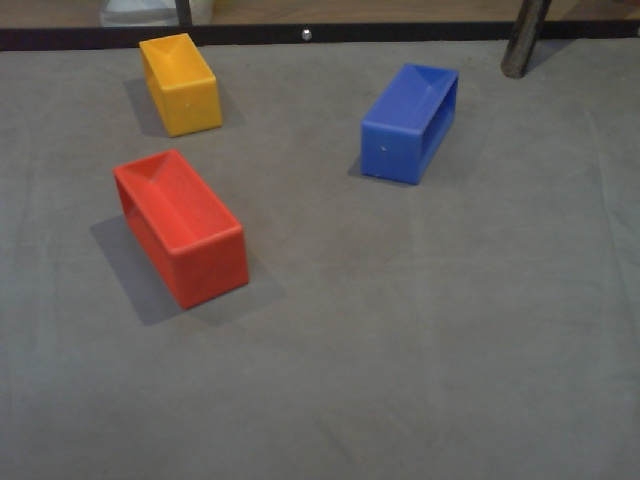BlueSample: (356, 57, 458, 189)
RedSample: (108, 146, 253, 310)
YellowSample: (136, 29, 227, 141)
